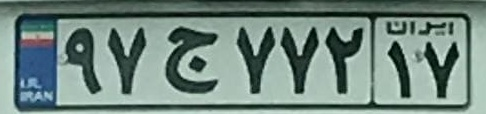character: (154, 21, 226, 100), (101, 22, 154, 102), (226, 19, 277, 101), (323, 18, 369, 102), (277, 18, 323, 101), (58, 22, 105, 102), (422, 38, 465, 102), (382, 36, 416, 103)
